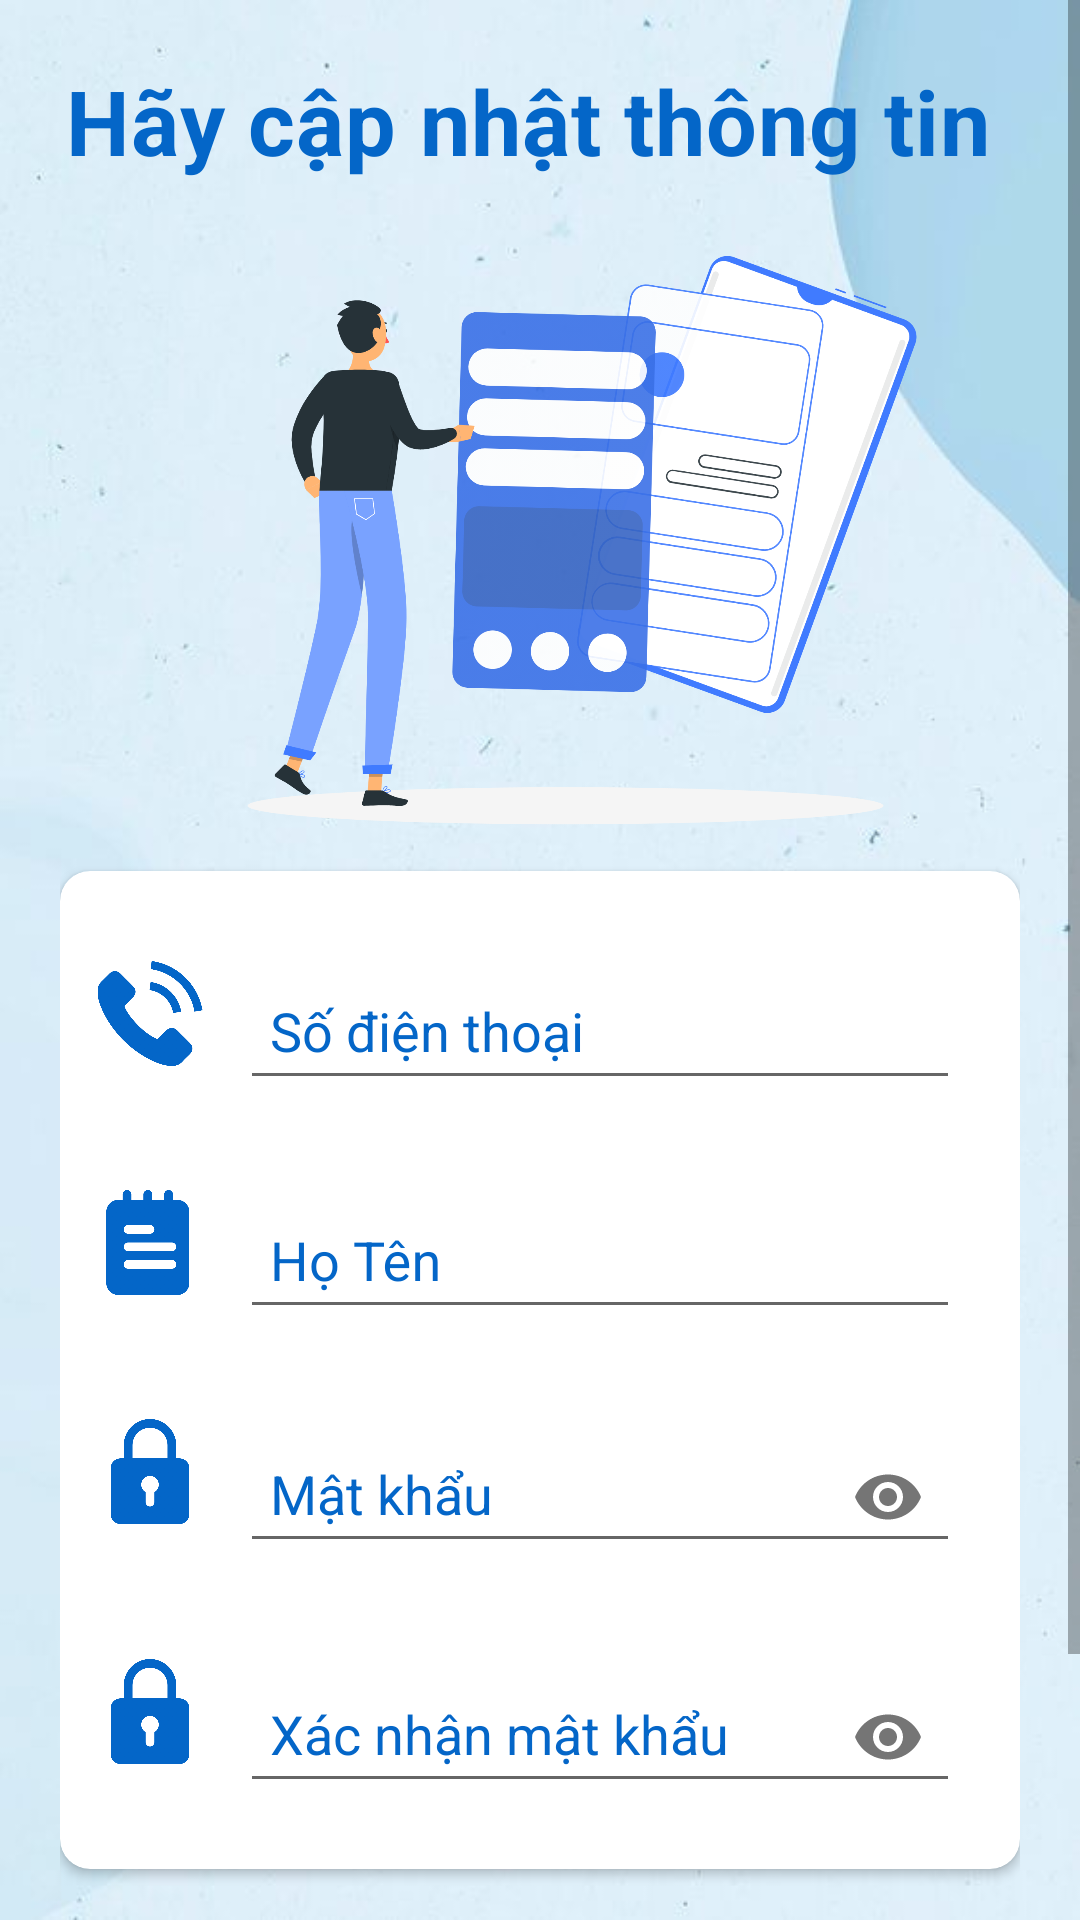

Named icons in this screenshot (1080px×1920px) and their centers, (x,y):
pass nhi: (150,1471), (150,1711)
phone nhi: (150,1013)
